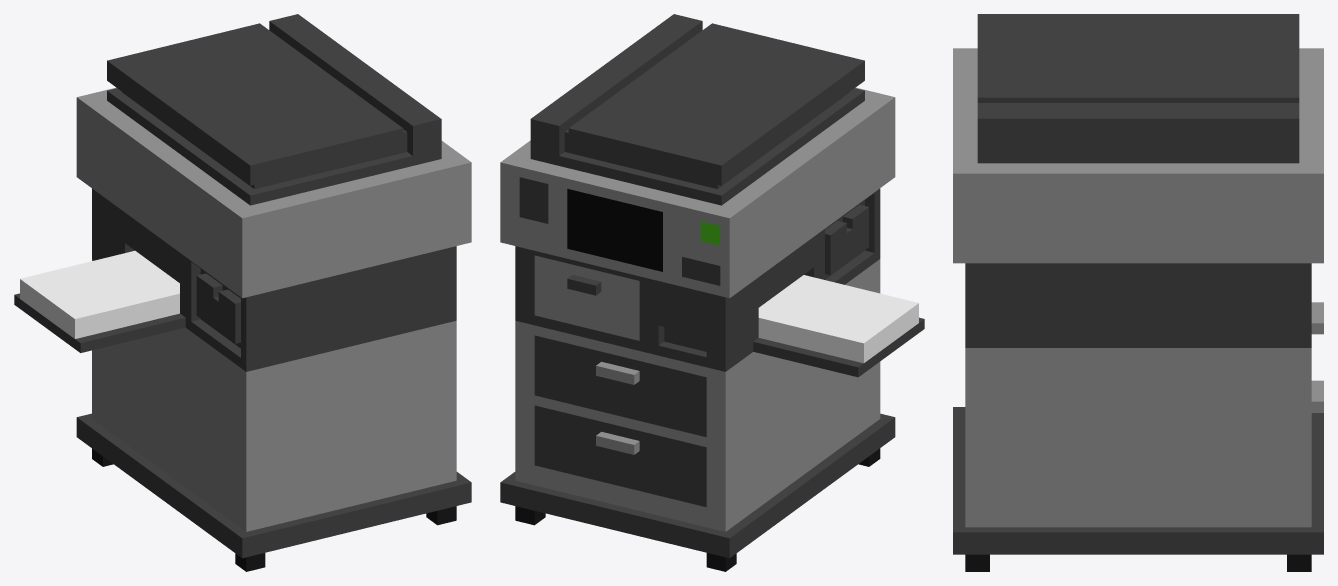
Rendered from photocopier_01.glb.
The picture shows the model from 3 angles, left to right: view 1: azimuth 30°, elevation 25°; view 2: azimuth 150°, elevation 25°; view 3: azimuth 270°, elevation 25°; orthographic projection. The views are drawn at different scales.
Visible parts, largest first — view 1: Untitled.002, Untitled.001; view 2: Untitled.002, Untitled.001; view 3: Untitled.002.
Boxes of the visible parts, x1=… form: Untitled.002: x1=14, y1=14, x2=471, y2=571; Untitled.001: x1=20, y1=250, x2=179, y2=338; Untitled.002: x1=500, y1=14, x2=924, y2=571; Untitled.001: x1=758, y1=275, x2=918, y2=363; Untitled.002: x1=953, y1=14, x2=1323, y2=571.
Size of the model in its own units: 1.02 by 1.2 by 0.9.
Materials: 3 (3 with a texture image).
